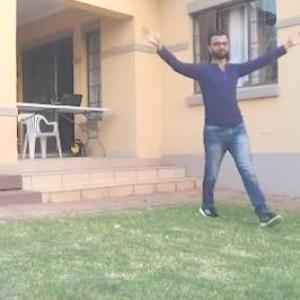takeoff: (156, 22, 299, 235)
